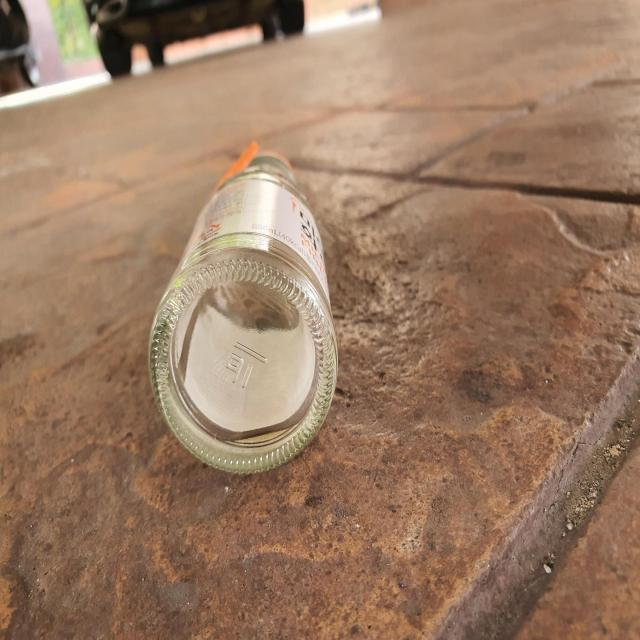glass: (148, 141, 338, 473)
